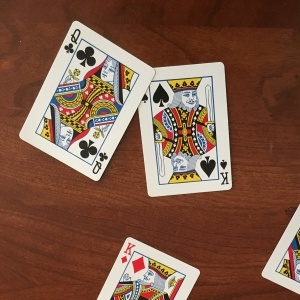card: (17, 19, 140, 182), (141, 59, 236, 195)
